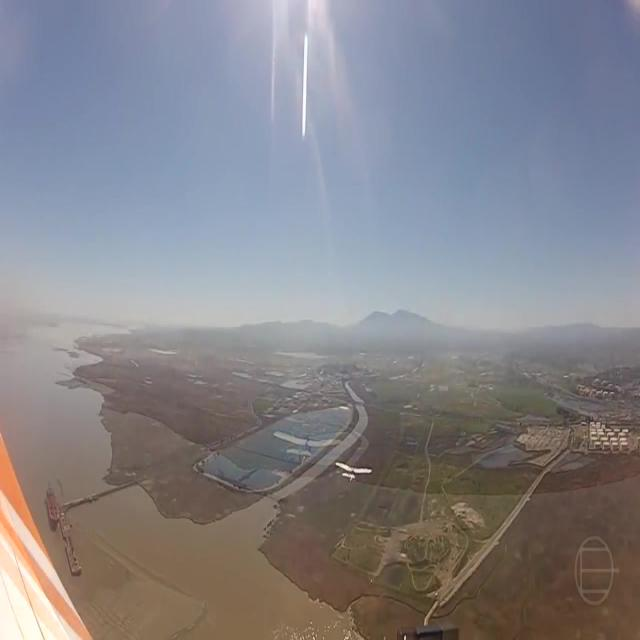iha: (334, 461, 373, 483)
